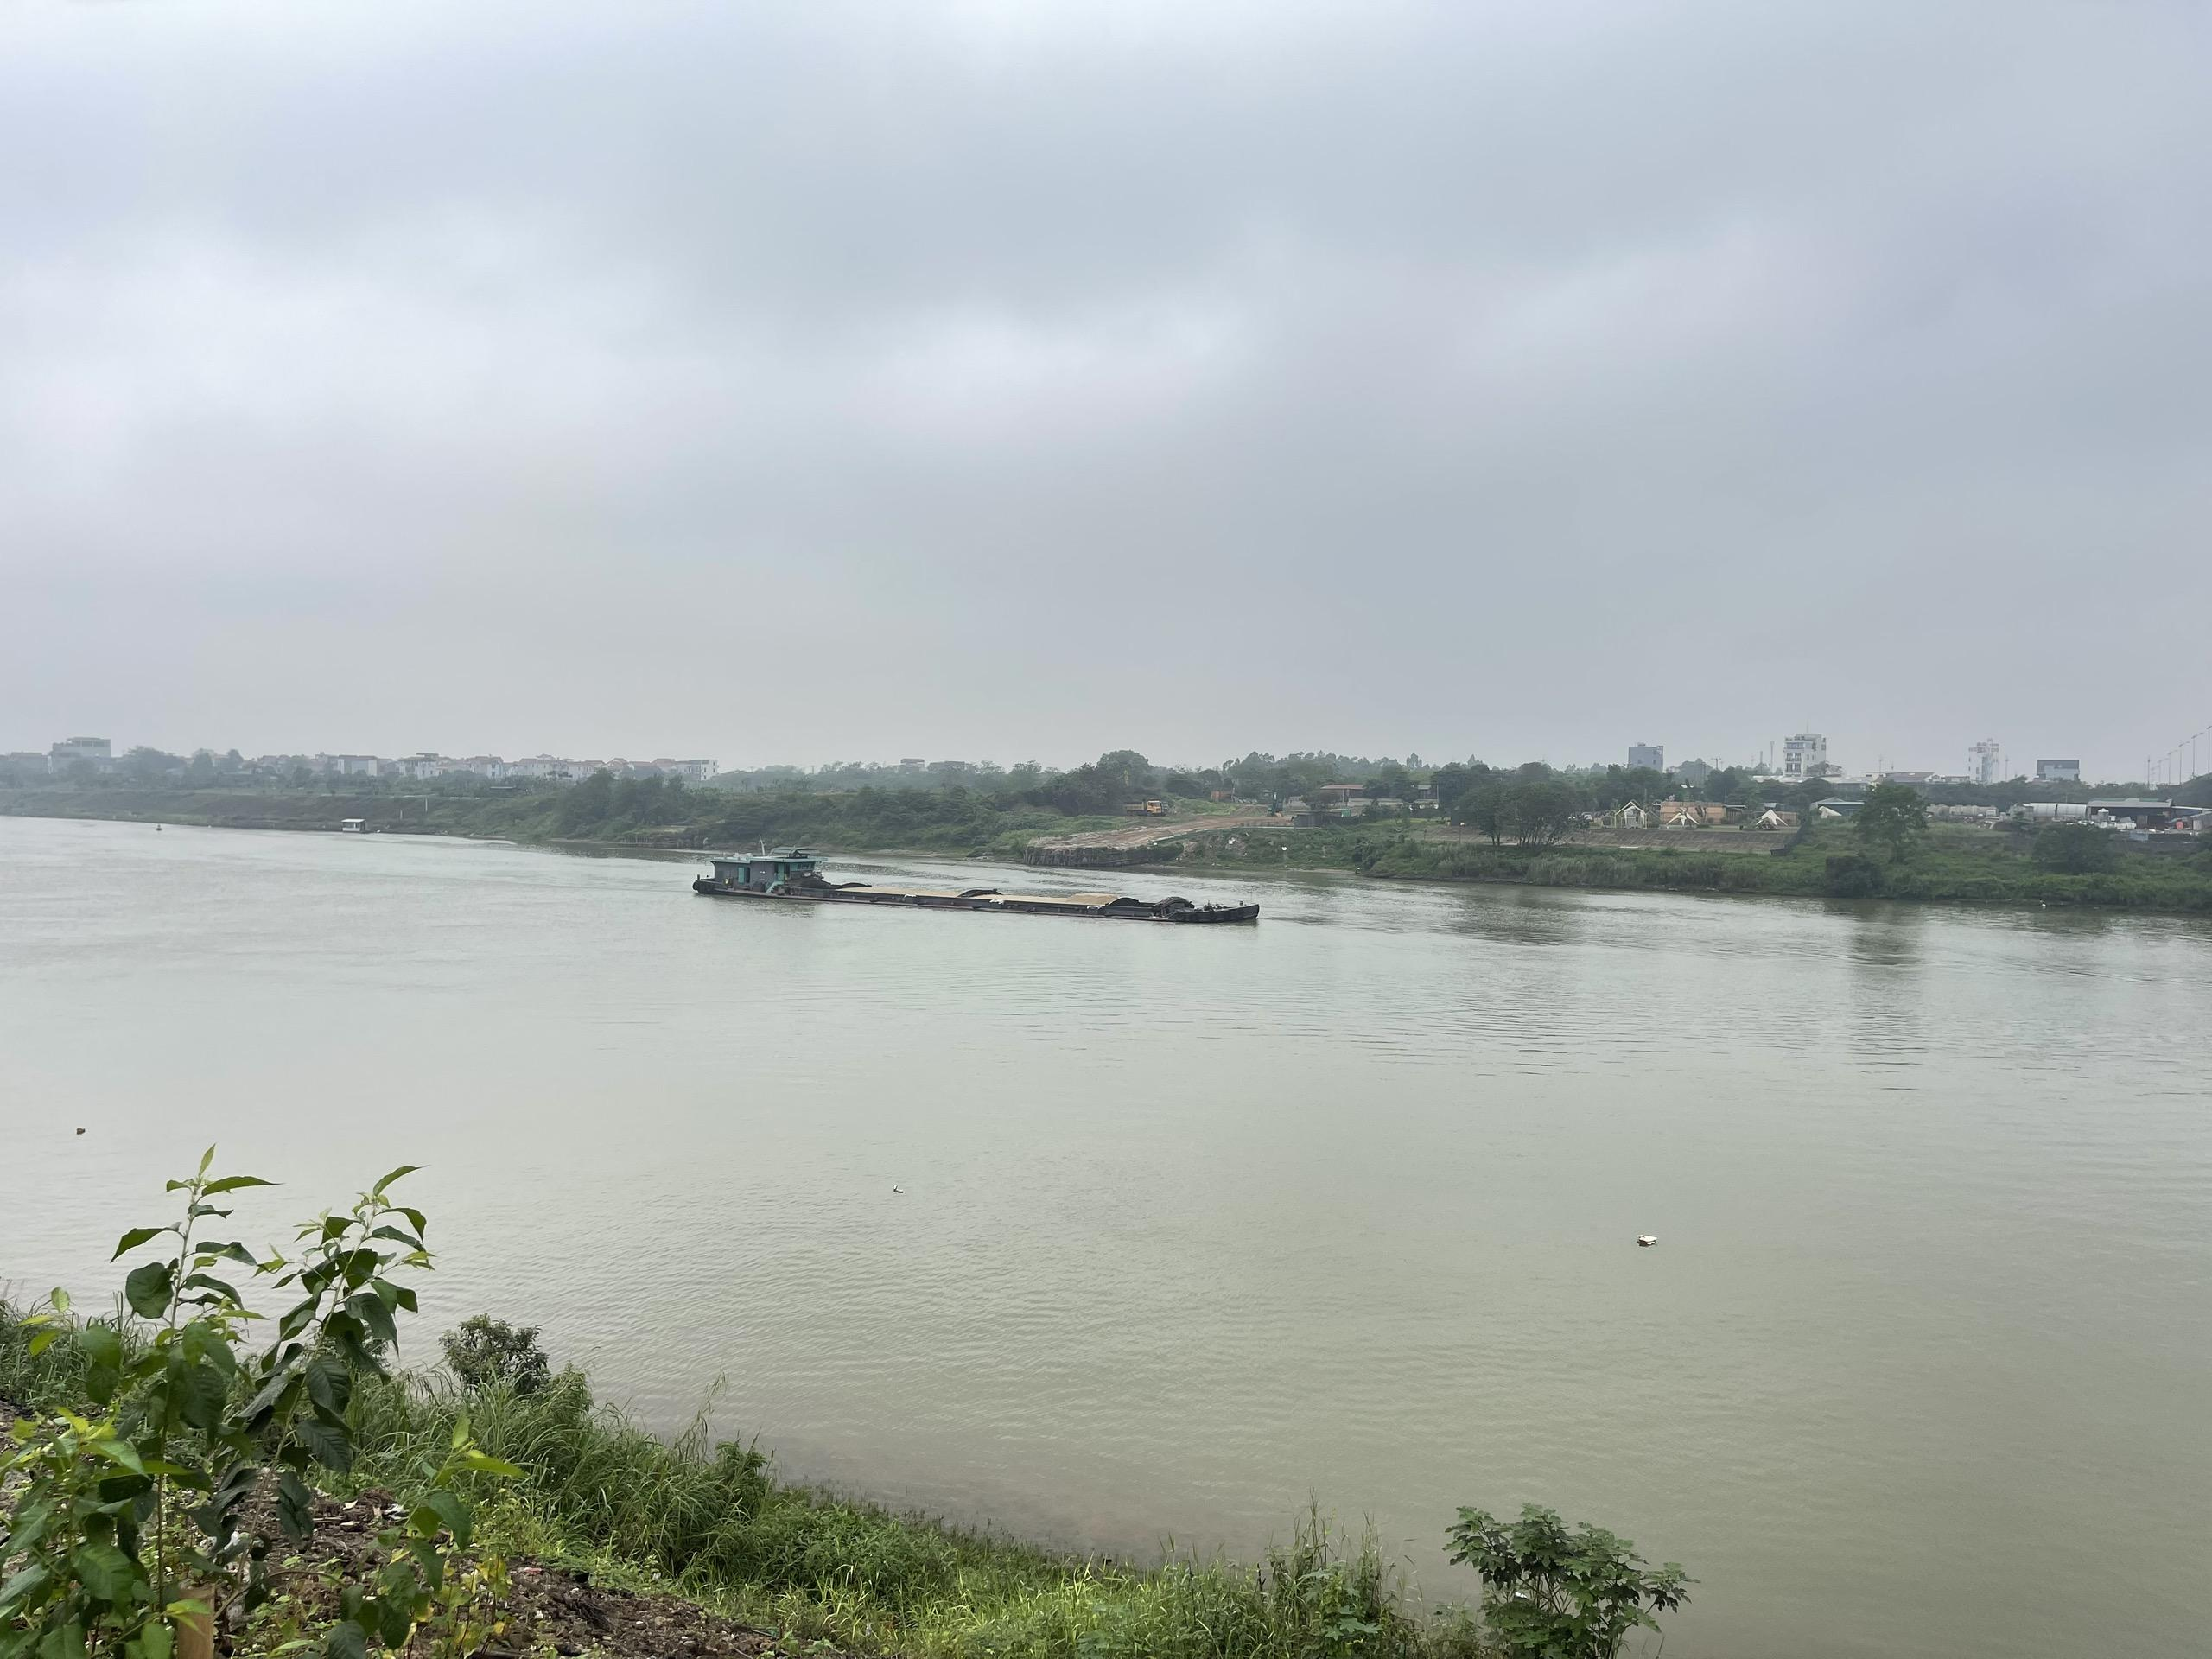Ship: (686, 847, 1275, 931)
